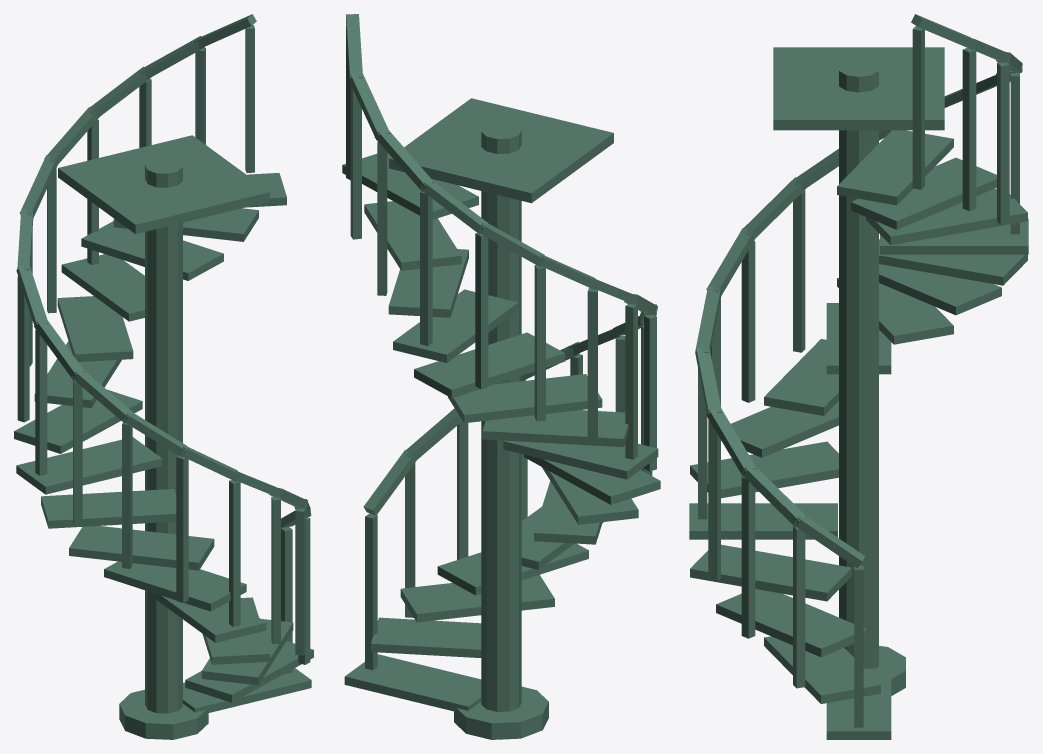
File: botanical-glasshouse-and-palm-house-botanical-glasshou-a43a2092__38540.glb
3 views of the same model, side by side, from view 1: azimuth 30°, elevation 25°; view 2: azimuth 150°, elevation 25°; view 3: azimuth 270°, elevation 25° (orthographic). The views are drawn at different scales.
Parts seen in each view (by area): view 1: botanical-glasshouse-and-palm-house-spiral-stair; view 2: botanical-glasshouse-and-palm-house-spiral-stair; view 3: botanical-glasshouse-and-palm-house-spiral-stair.
Boxes of the visible parts, x1,y1,x2,y2 form: botanical-glasshouse-and-palm-house-spiral-stair: [14, 14, 313, 739]; botanical-glasshouse-and-palm-house-spiral-stair: [342, 14, 660, 739]; botanical-glasshouse-and-palm-house-spiral-stair: [689, 14, 1028, 739].
Size of the model in its own units: 1.78 by 4.2 by 1.78.
